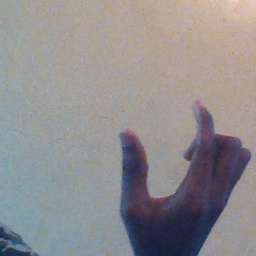U: (108, 97, 252, 251)
